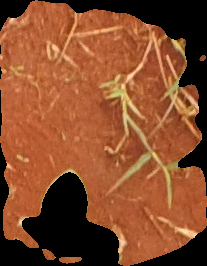soil: (1, 1, 206, 266)
